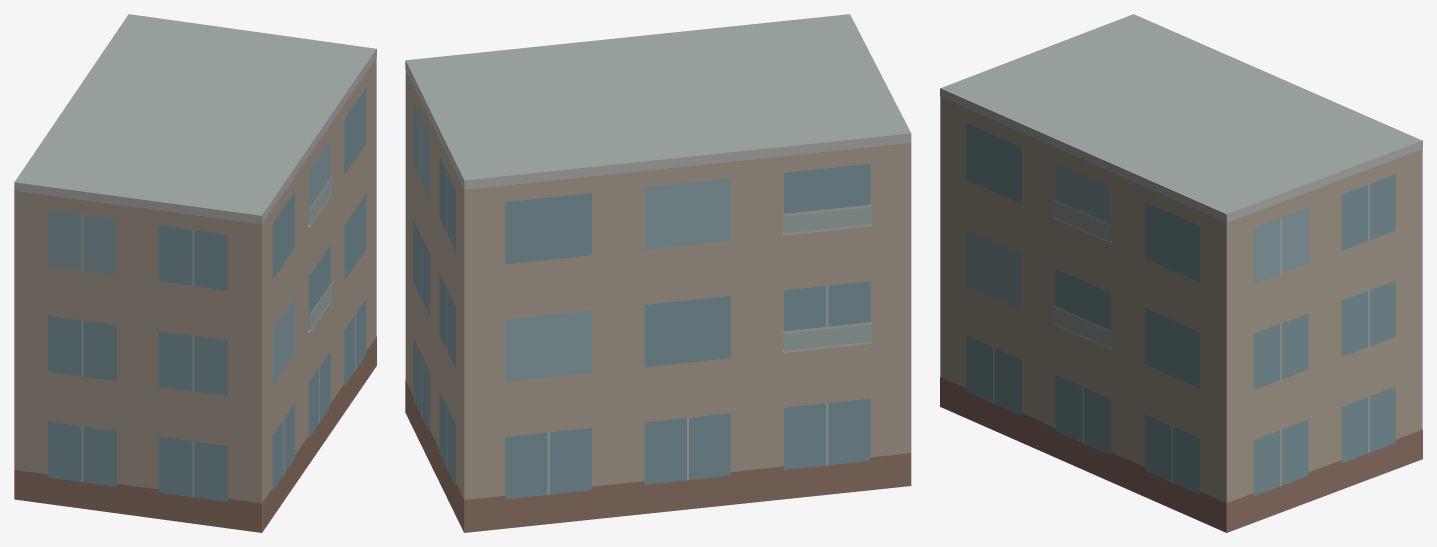
Rendered from survey-upis-32937379.glb.
The picture shows the model from 3 angles, left to right: view 1: azimuth 30°, elevation 25°; view 2: azimuth 150°, elevation 25°; view 3: azimuth 270°, elevation 25°; orthographic projection. The views are drawn at different scales.
Parts seen in each view (by area): view 1: survey-upis-32937379.tmp; view 2: survey-upis-32937379.tmp; view 3: survey-upis-32937379.tmp.
Boxes of the visible parts, x1,y1,x2,y2 form: survey-upis-32937379.tmp: (14, 14, 376, 532); survey-upis-32937379.tmp: (405, 14, 911, 532); survey-upis-32937379.tmp: (940, 14, 1422, 532).
Bounding box in the file's own units: 12.28 × 9.1 × 12.5.
